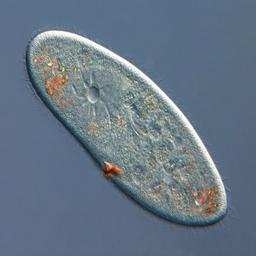Paramecium: (24, 31, 227, 227)
